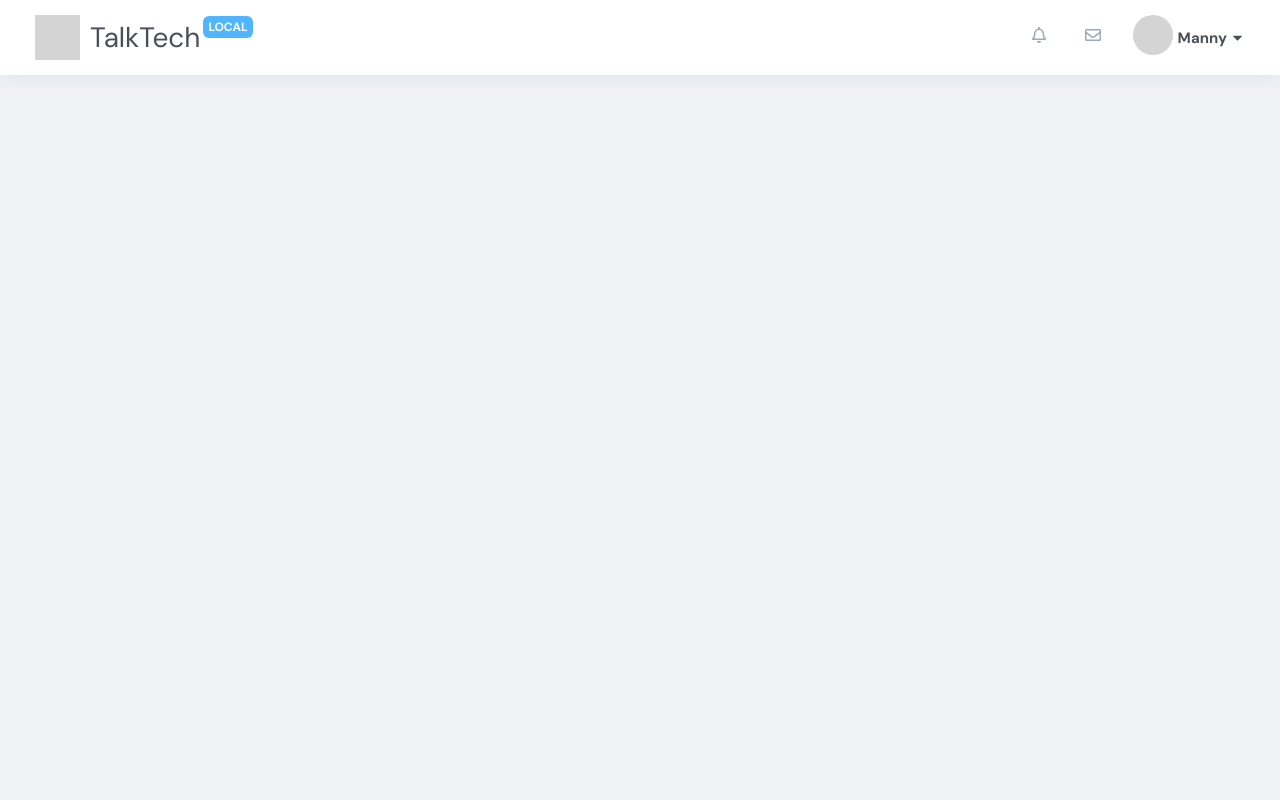
Test: Header › body › should display settings dropdown
Click the list item with test id "settings-list-item" at (1184, 38), box [1123,15,1245,60]
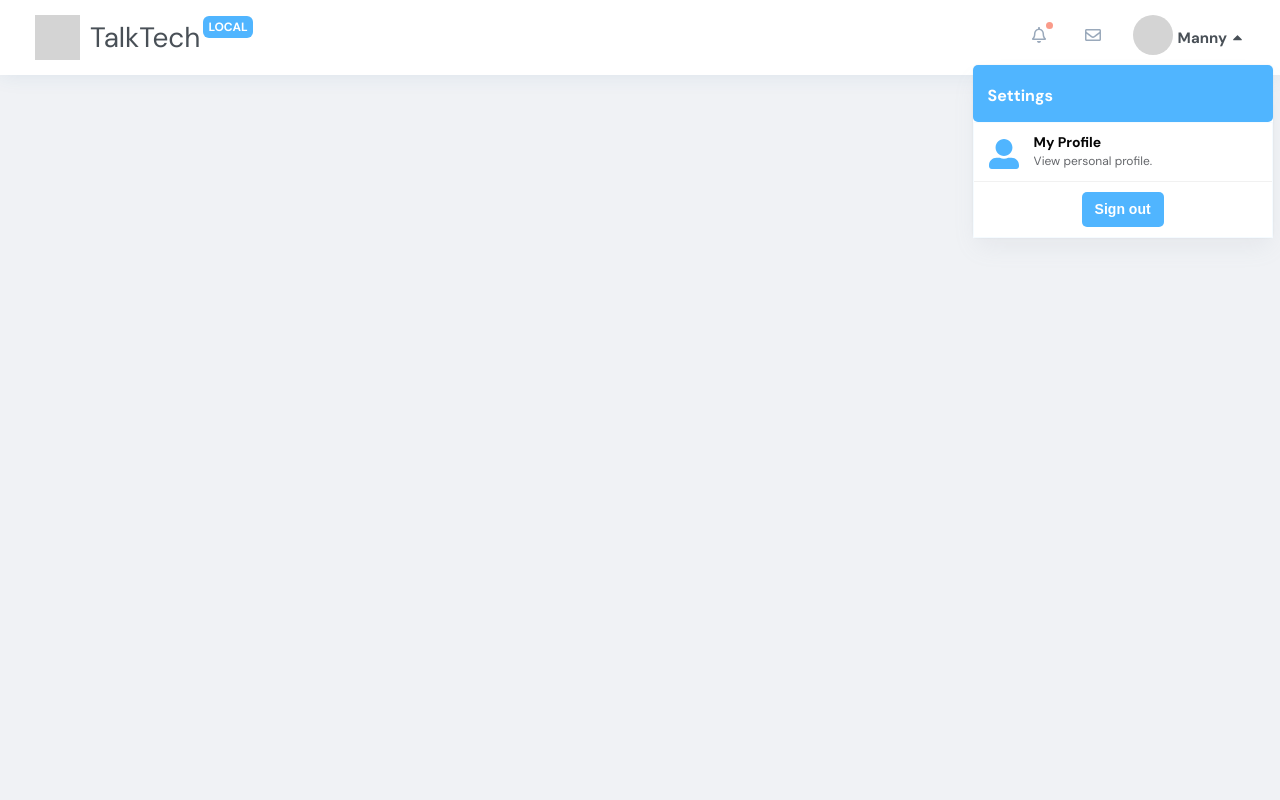
Result: the element with test id "dropdown" is shown at [973,65,1273,238]
